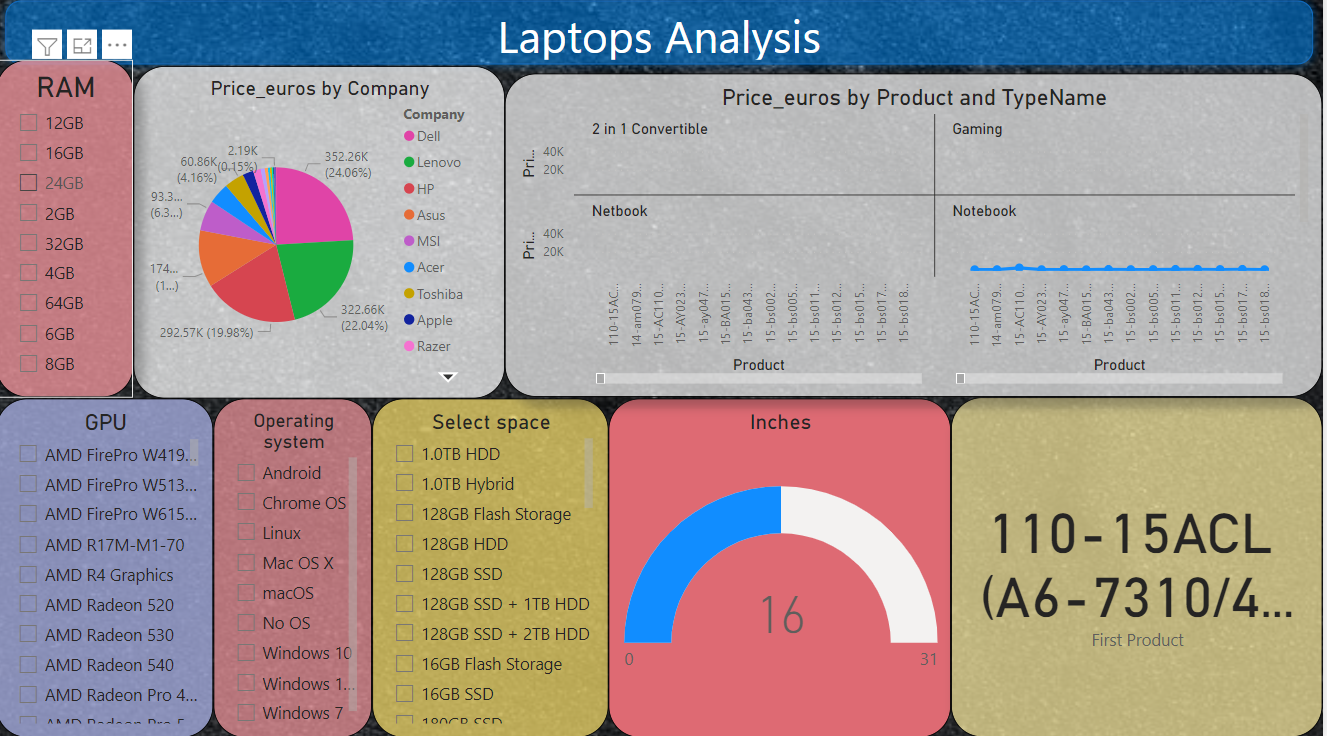

This screenshot's page, from the dashboard's own definition file:
{"tool":"powerbi","page":{"name":"Laptop Reports","canvas":[1280,720],"ordinal":1},"visuals":[{"type":"shape","box":[0,0,1280,79.7],"z":0},{"type":"pieChart","fields":{"Category":["laptops.Company"],"Y":["Sum(laptops.Price_euros)"]},"box":[132.7,72.4,358.2,320.8],"z":1},{"type":"slicer","title":"RAM","fields":{"Values":["laptops.Ram"]},"box":[0,66.3,132.7,325.6],"z":6},{"type":"slicer","title":"GPU","fields":{"Values":["laptops.Gpu"]},"box":[0,393.2,209.8,326.8],"z":7},{"type":"slicer","title":"Select space","fields":{"Values":["laptops.Memory"]},"box":[363,393.2,227.9,326.8],"z":8},{"type":"slicer","title":"Operating system","fields":{"Values":["laptops.OpSys"]},"box":[209.8,393.2,153.2,326.8],"z":9},{"type":"gauge","title":" Inches","fields":{"Y":["Median(laptops.Inches)"]},"box":[591,393.2,330.5,326.8],"z":10},{"type":"card","fields":{"Values":["Min(laptops.Product)"]},"box":[921.4,392,358.2,328],"z":11},{"type":"lineChart","fields":{"Category":["laptops.Product"],"Y":["Sum(laptops.Price_euros)"],"Rows":["laptops.TypeName"]},"box":[490.9,79.6,788.7,312.4],"z":12}]}

Visuals, with their boxes in screenshot pixels (x1, y1, x2, y2), scaled from the page's 1280x720 canvas onto the 1327x736 screenshot:
shape: {"x1": 0, "y1": 0, "x2": 1326, "y2": 81}
pieChart - laptops.Company x Sum(laptops.Price_euros): {"x1": 138, "y1": 74, "x2": 509, "y2": 402}
"RAM" slicer: {"x1": 0, "y1": 68, "x2": 138, "y2": 401}
"GPU" slicer: {"x1": 0, "y1": 402, "x2": 218, "y2": 735}
"Select space" slicer: {"x1": 376, "y1": 402, "x2": 613, "y2": 735}
"Operating system" slicer: {"x1": 218, "y1": 402, "x2": 376, "y2": 735}
" Inches" gauge: {"x1": 613, "y1": 402, "x2": 955, "y2": 735}
card - Min(laptops.Product): {"x1": 955, "y1": 401, "x2": 1326, "y2": 735}
lineChart - laptops.Product x Sum(laptops.Price_euros): {"x1": 509, "y1": 81, "x2": 1326, "y2": 401}
